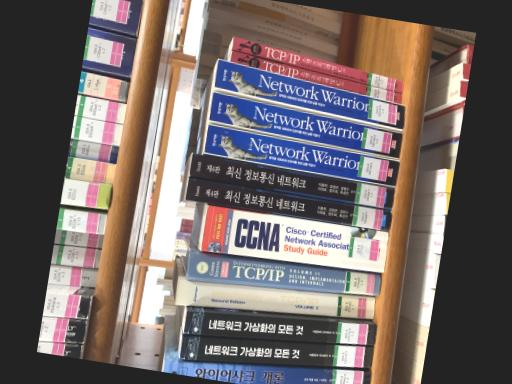book-spine: (214, 57, 404, 129), (209, 90, 403, 158), (201, 204, 388, 272), (204, 123, 399, 186), (188, 152, 394, 209), (185, 176, 391, 231), (231, 35, 404, 93), (230, 49, 401, 103), (186, 251, 381, 294), (174, 279, 374, 317), (183, 309, 376, 344), (180, 335, 374, 367), (162, 360, 370, 384)
